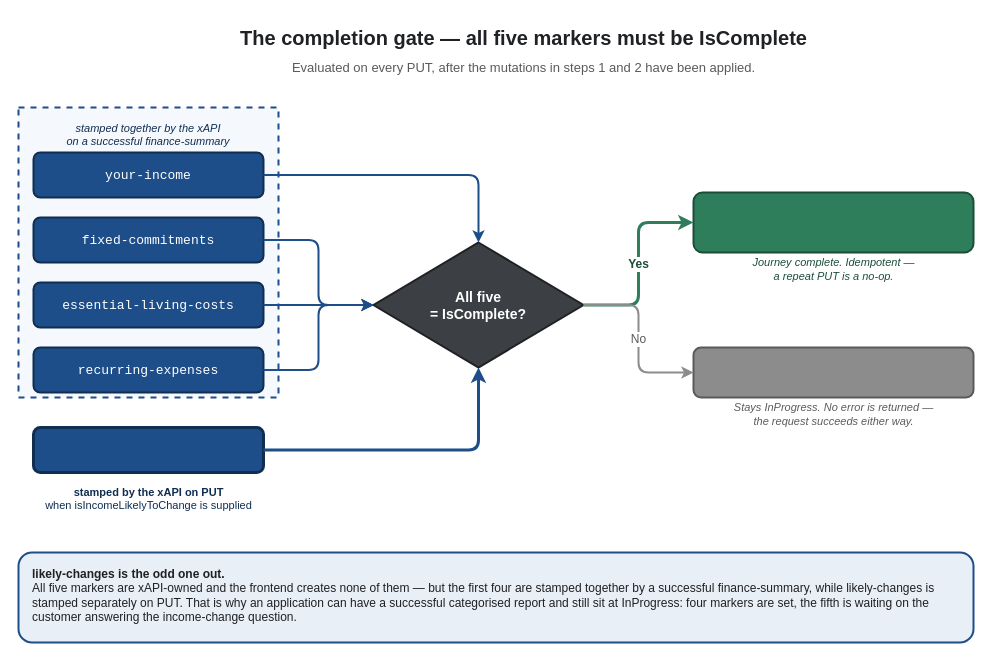
This 991x660 diagram has some shape labels left out. Each missing label, with the centre of its shape:
lendingApplyState.status = "IsComplete": (x=833, y=222)
likely-changes: (x=148, y=450)
No status change: (x=833, y=372)
